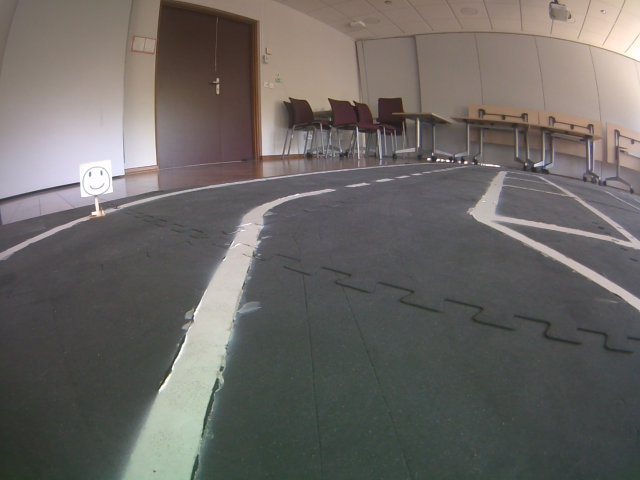Smiley: (76, 160, 116, 199)
